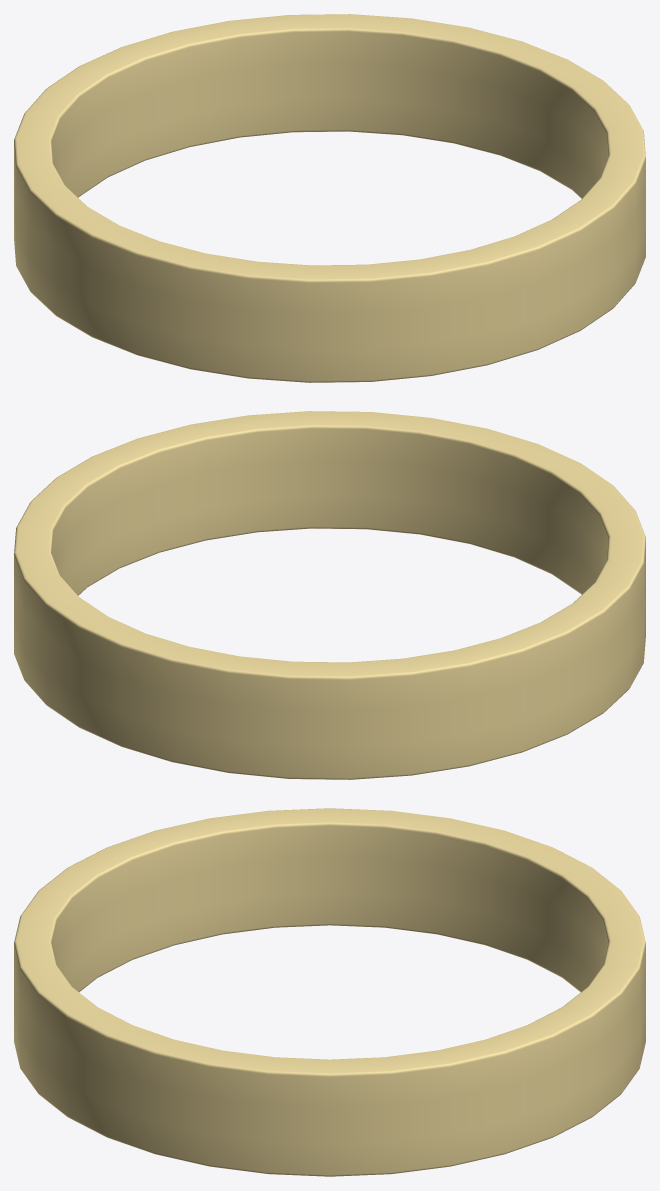
3 views of the same model, one above another, from view 1: azimuth 30°, elevation 25°; view 2: azimuth 150°, elevation 25°; view 3: azimuth 270°, elevation 25° (orthographic).
Visible parts, largest first — view 1: Base_metal, Engraving_Metal; view 2: Base_metal, Engraving_Metal; view 3: Base_metal, Engraving_Metal.
Boxes of the visible parts, x1=… form: Base_metal: x1=14, y1=14, x2=645, y2=382; Engraving_Metal: x1=51, y1=31, x2=608, y2=197; Base_metal: x1=14, y1=411, x2=645, y2=779; Engraving_Metal: x1=51, y1=428, x2=608, y2=594; Base_metal: x1=14, y1=808, x2=645, y2=1176; Engraving_Metal: x1=51, y1=825, x2=608, y2=991.
Size of the model in its own units: 1.11 by 0.2 by 1.11.
